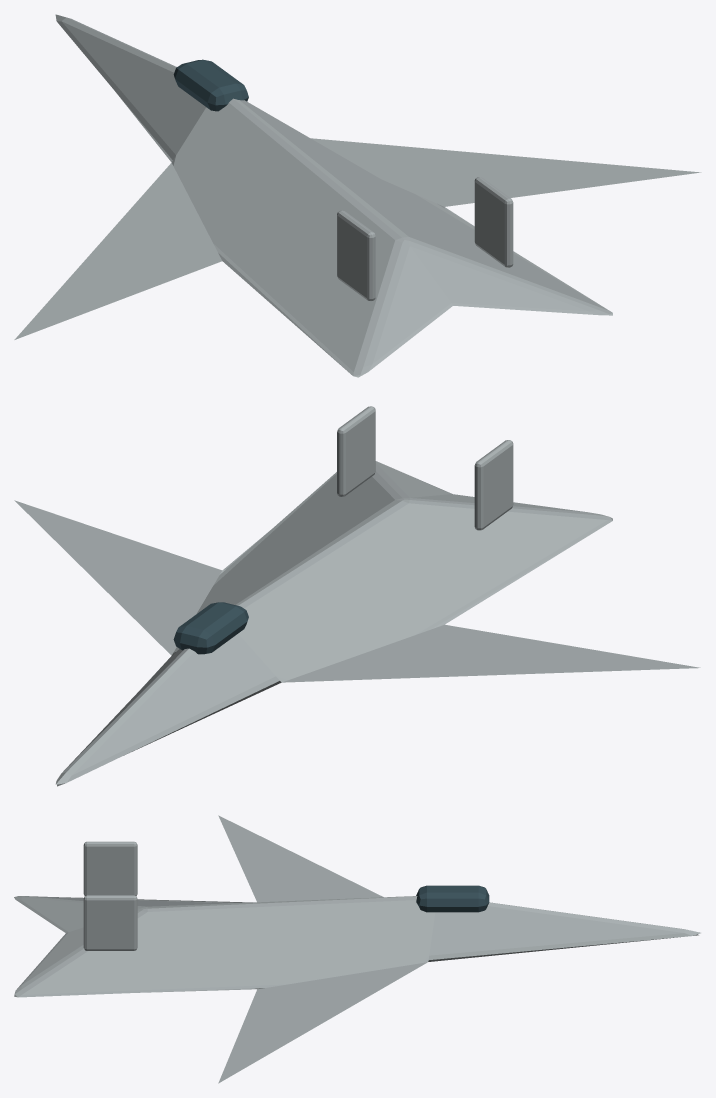
The model's file is ussr_mig29.glb.
The picture shows the model from 3 angles, top to bottom: view 1: azimuth 30°, elevation 25°; view 2: azimuth 150°, elevation 25°; view 3: azimuth 270°, elevation 25°; orthographic projection. The views are drawn at different scales.
Parts seen in each view (by area): view 1: airframe, right_tail, left_tail, canopy; view 2: airframe, left_tail, right_tail, canopy; view 3: airframe, right_tail, left_tail, canopy.
Part boxes in pixels (x1,y1,x2,y2): airframe: [14, 14, 701, 377]; right_tail: [474, 177, 513, 267]; left_tail: [337, 210, 375, 301]; canopy: [173, 59, 248, 111]; airframe: [14, 461, 700, 786]; left_tail: [474, 440, 513, 530]; right_tail: [337, 406, 375, 496]; canopy: [173, 602, 248, 654]; airframe: [14, 815, 700, 1083]; right_tail: [83, 895, 137, 950]; left_tail: [83, 841, 137, 895]; canopy: [416, 885, 489, 912].
Bounding box in the file's own units: 5.72 × 0.8008 × 6.19.
